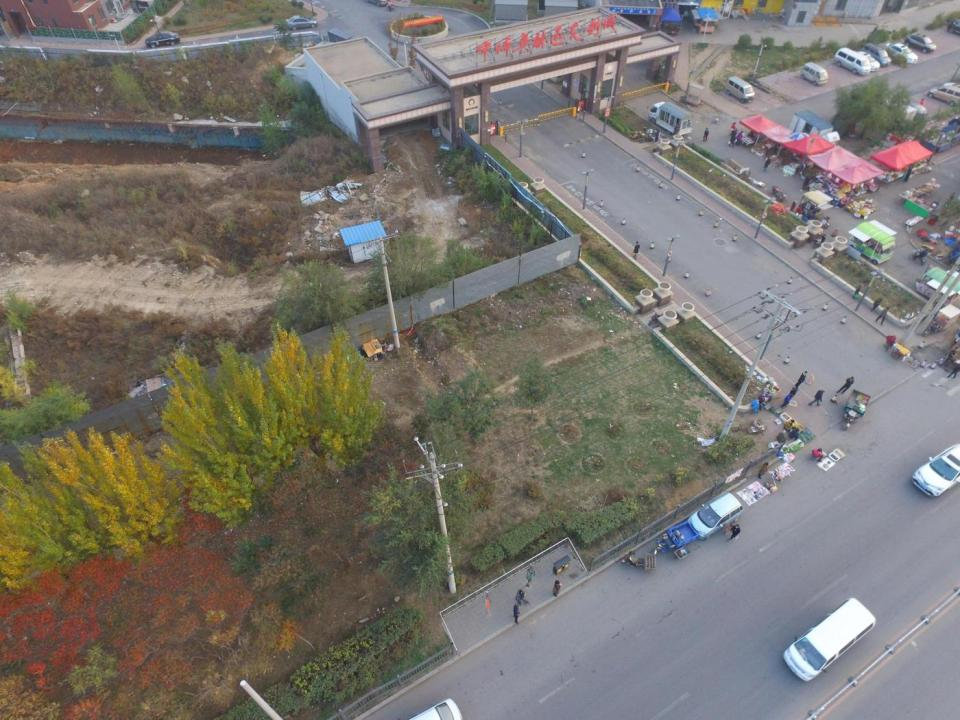car: (687, 492, 743, 540), (911, 443, 960, 497), (884, 90, 927, 121), (405, 698, 464, 719), (884, 43, 917, 63), (849, 51, 880, 71), (905, 33, 936, 53), (145, 32, 180, 48), (286, 15, 317, 31), (943, 82, 960, 102), (946, 18, 960, 36)
truck: (646, 101, 692, 136)
van: (783, 597, 876, 682), (834, 47, 871, 75), (726, 76, 755, 103), (926, 86, 960, 106), (862, 42, 890, 66), (800, 62, 827, 86)
